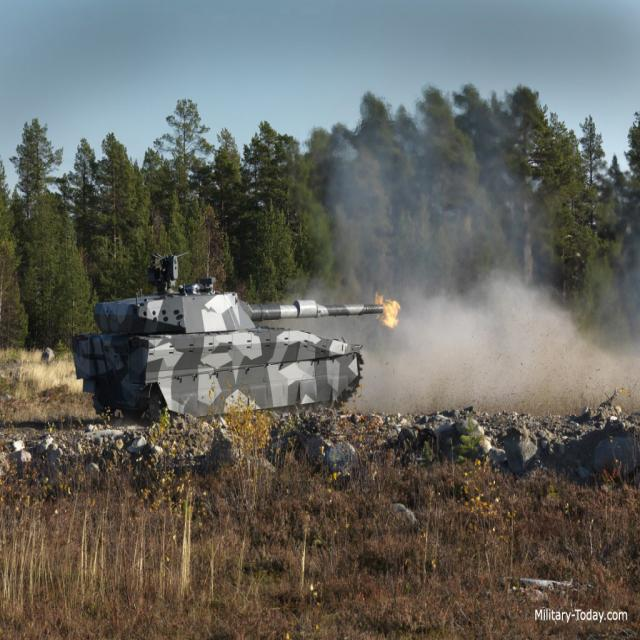Tank: (63, 242, 385, 417)
